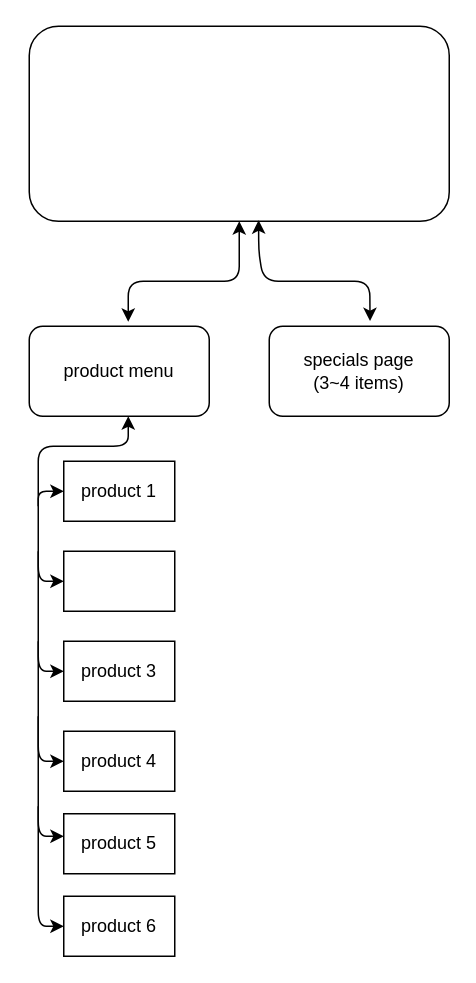
The diagram is 476 pixels wide and 983 high, and some of its shapes have lost their labels. The centre of each missing label's shape, as x and y in pixels:
"HOME (includes aboutme and contact)" goes at (x=238, y=123).
"product 2" goes at (x=118, y=580).
